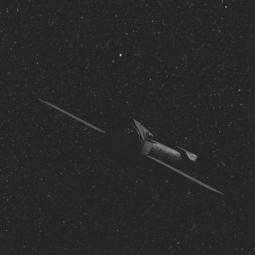xmm_newton: (37, 80, 235, 203)
